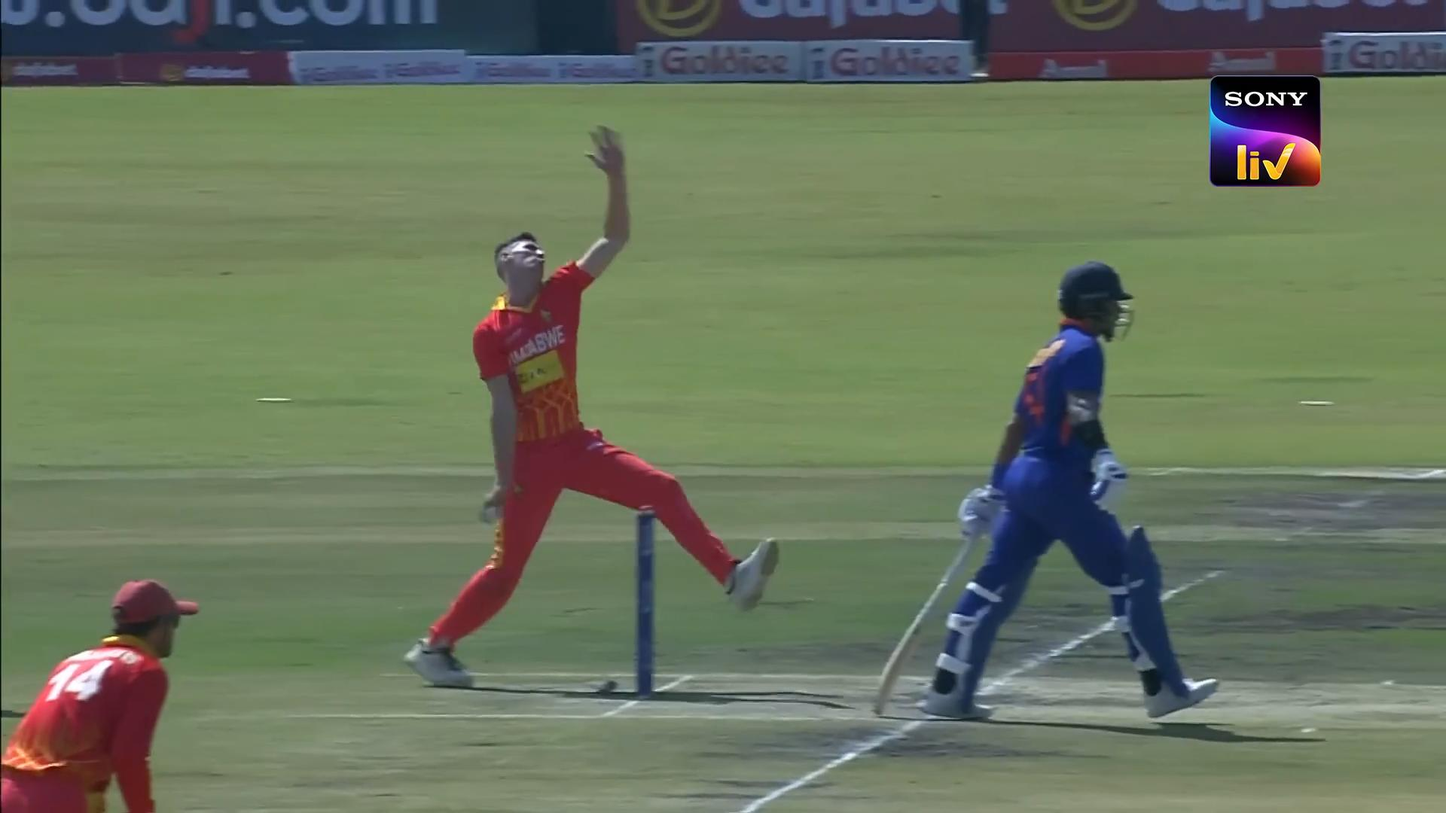batsman: (874, 259, 1217, 722)
